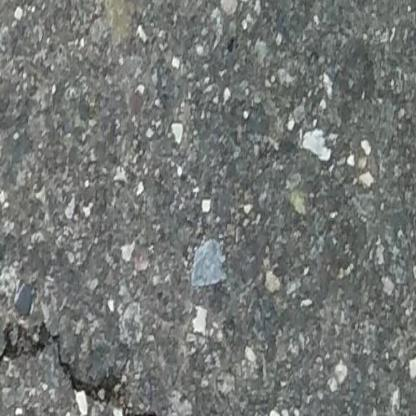Cracks: (0, 321, 189, 416)
